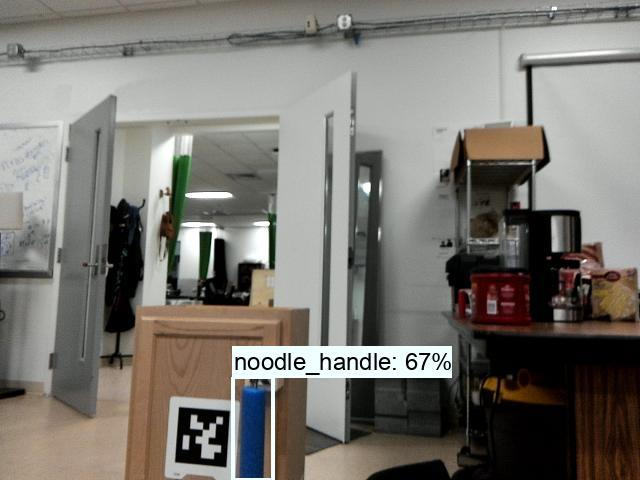noodle_handle: (236, 376, 271, 480)
